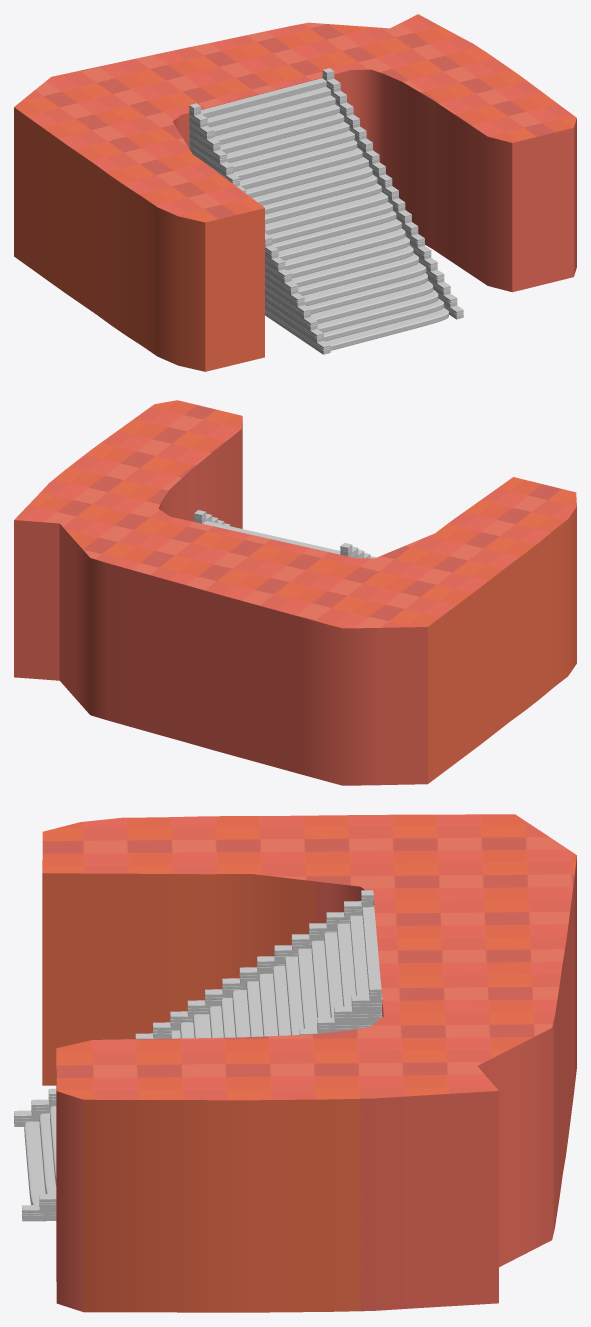
File: StairsToBuilding.fbx
The picture shows the model from 3 angles, top to bottom: view 1: azimuth 30°, elevation 25°; view 2: azimuth 150°, elevation 25°; view 3: azimuth 270°, elevation 25°; orthographic projection. The views are drawn at different scales.
Visible parts, largest first — view 1: Cube_029__4_, Stairs, Cube; view 2: Cube_029__4_, Cube, Stairs; view 3: Cube_029__4_, Stairs, Cube.
Part boxes in pixels (<box>): Cube_029__4_: <box>14,14,576,371</box>; Stairs: <box>201,78,448,350</box>; Cube: <box>189,68,463,354</box>; Cube_029__4_: <box>14,400,576,785</box>; Cube: <box>194,510,375,558</box>; Stairs: <box>202,521,340,554</box>; Cube_029__4_: <box>42,814,576,1312</box>; Stairs: <box>24,905,382,1204</box>; Cube: <box>14,890,381,1221</box>.
Size of the model in its own units: 1810 by 676 by 1506.
Materials: 1 (1 with a texture image).
